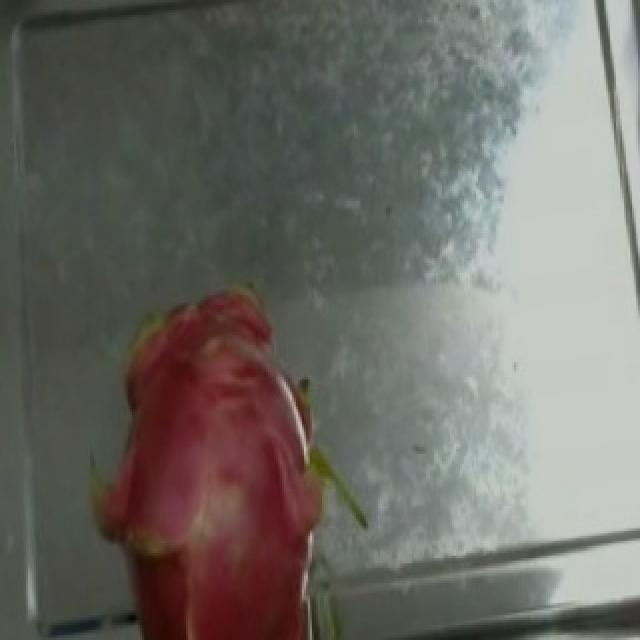fruit: (52, 255, 408, 640)
